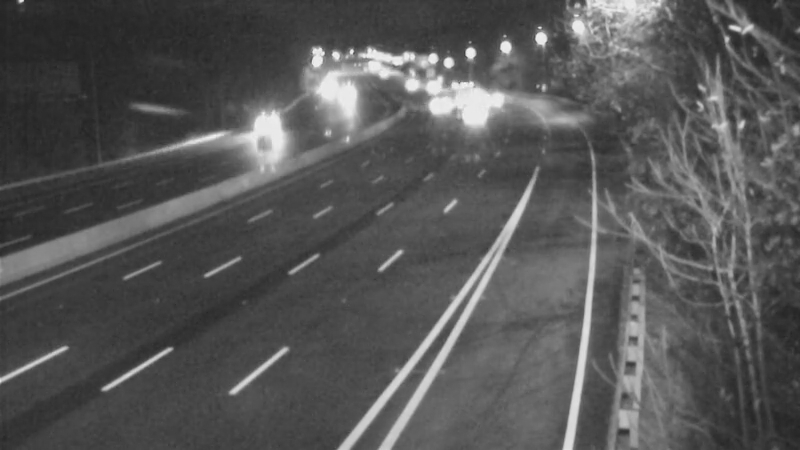vehicle: (383, 58, 433, 108), (403, 61, 453, 111), (433, 65, 483, 115), (463, 72, 513, 122), (419, 77, 469, 127), (450, 89, 500, 139), (240, 104, 290, 154), (324, 77, 374, 127)
